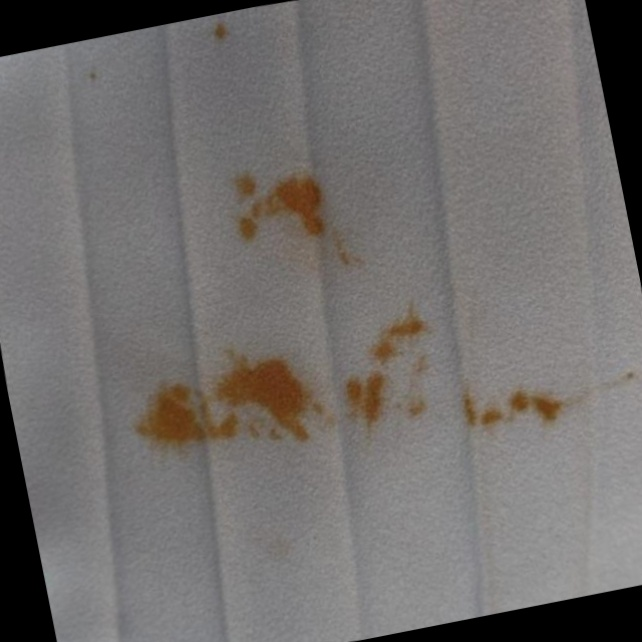kimchi: (114, 266, 642, 514), (212, 131, 373, 303), (198, 12, 240, 53), (77, 62, 110, 94)
